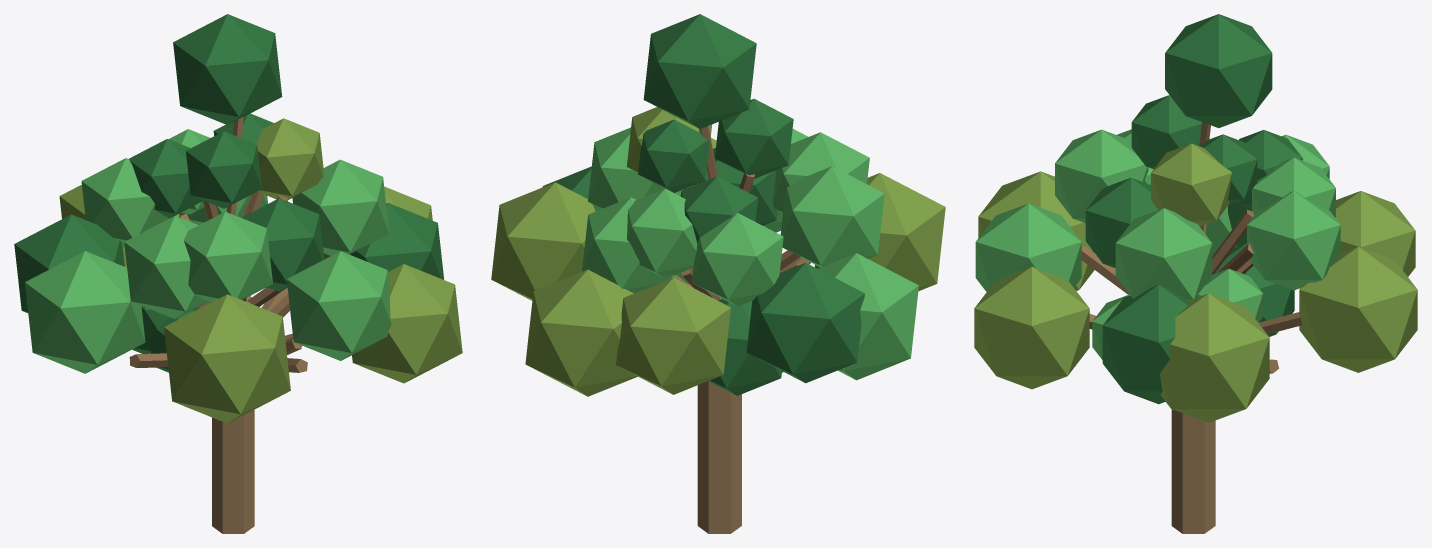
Rendered from Tree_18.glb.
3 views of the same model, side by side, from view 1: azimuth 30°, elevation 25°; view 2: azimuth 150°, elevation 25°; view 3: azimuth 270°, elevation 25° (orthographic). The views are drawn at different scales.
Visible parts, largest first — view 1: T18_Sphere_07, T18_Sphere_11, T18_Sphere_03, T18_Sphere_12, T18_Sphere_08, T18_Sphere_20, T18_Sphere_18, T18_Sphere_16, T18_Trunk, T18_Sphere_22, T18_Sphere_23, T18_Sphere_15 (+12 smaller); view 2: T18_Sphere_06, T18_Sphere_10, T18_Sphere_05, T18_Sphere_03, T18_Sphere_09, T18_Sphere_16, T18_Sphere_11, T18_Trunk, T18_Sphere_15, T18_Sphere_07, T18_Sphere_19, T18_Sphere_22 (+9 smaller); view 3: T18_Sphere_05, T18_Sphere_08, T18_Sphere_09, T18_Sphere_03, T18_Sphere_18, T18_Sphere_14, T18_Sphere_13, T18_Sphere_12, T18_Trunk, T18_Sphere_20, T18_Sphere_23, T18_Sphere_10 (+14 smaller).
Boxes of the visible parts, <box> form: T18_Sphere_07: <box>164,294,290,423</box>; T18_Sphere_11: <box>25,251,145,373</box>; T18_Sphere_03: <box>173,14,282,124</box>; T18_Sphere_12: <box>286,251,391,360</box>; T18_Sphere_08: <box>352,264,462,383</box>; T18_Sphere_20: <box>183,211,272,302</box>; T18_Sphere_18: <box>292,159,388,255</box>; T18_Sphere_16: <box>124,215,207,318</box>; T18_Trunk: <box>212,296,254,533</box>; T18_Sphere_22: <box>186,131,261,208</box>; T18_Sphere_23: <box>256,118,323,199</box>; T18_Sphere_15: <box>81,158,168,247</box>; T18_Sphere_06: <box>746,262,864,383</box>; T18_Sphere_10: <box>616,278,730,394</box>; T18_Sphere_05: <box>525,269,637,396</box>; T18_Sphere_03: <box>643,14,756,128</box>; T18_Sphere_09: <box>491,182,595,300</box>; T18_Sphere_16: <box>780,166,884,267</box>; T18_Sphere_11: <box>818,253,918,380</box>; T18_Trunk: <box>697,298,741,533</box>; T18_Sphere_15: <box>691,212,783,306</box>; T18_Sphere_07: <box>815,173,945,291</box>; T18_Sphere_19: <box>627,188,697,277</box>; T18_Sphere_22: <box>714,98,793,178</box>; T18_Sphere_05: <box>1299,246,1417,372</box>; T18_Sphere_08: <box>974,266,1089,389</box>; T18_Sphere_09: <box>1160,293,1269,422</box>; T18_Sphere_03: <box>1165,14,1272,128</box>; T18_Sphere_18: <box>1115,208,1212,300</box>; T18_Sphere_14: <box>1247,191,1340,290</box>; T18_Sphere_13: <box>1102,284,1187,404</box>; T18_Sphere_12: <box>975,203,1081,291</box>; T18_Trunk: <box>1171,409,1215,533</box>; T18_Sphere_20: <box>1055,129,1148,222</box>; T18_Sphere_23: <box>1151,143,1232,226</box>; T18_Sphere_10: <box>1335,191,1415,276</box>.
Size of the model in its own units: 2.57 by 3.1 by 2.42.
